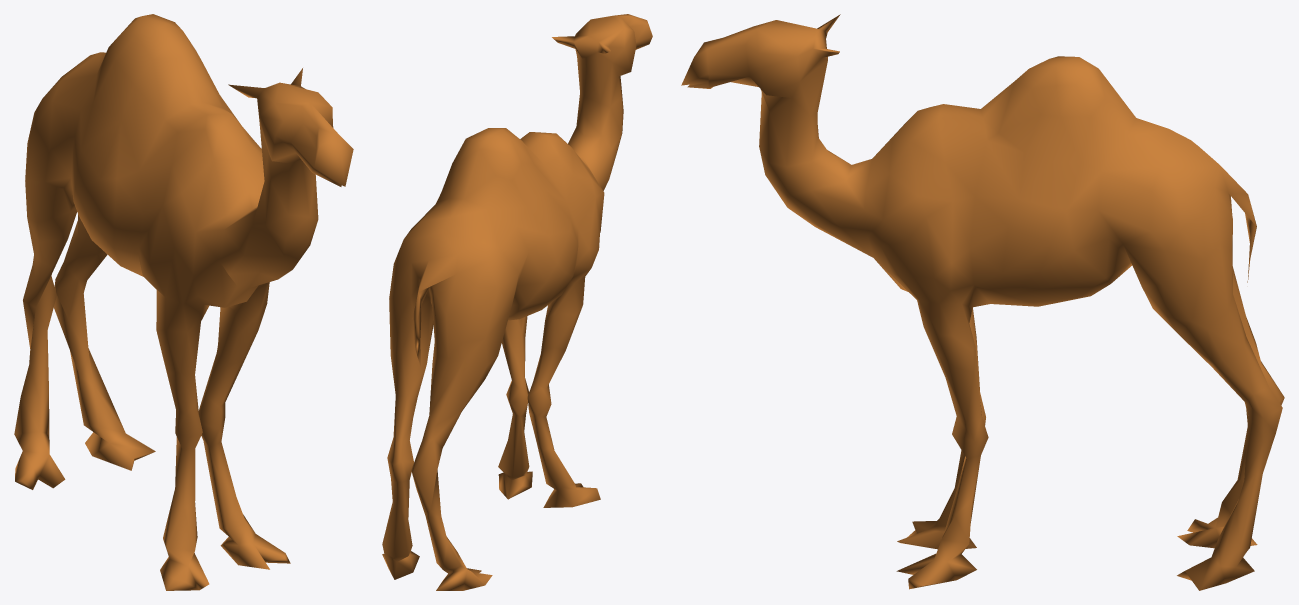
The model's file is camel_old.obj.
3 views of the same model, side by side, from view 1: azimuth 30°, elevation 25°; view 2: azimuth 150°, elevation 25°; view 3: azimuth 270°, elevation 25° (orthographic). The views are drawn at different scales.
Bounding box in the file's own units: 0.9267 × 2.94 × 3.02.
